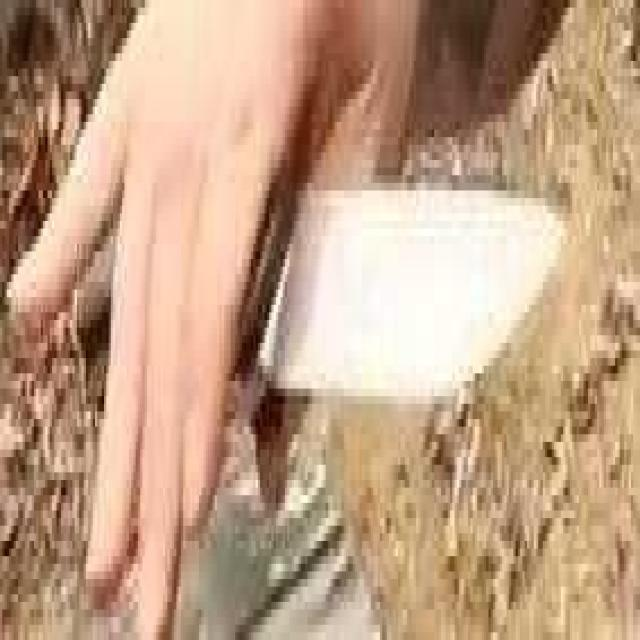knife: (56, 64, 580, 478)
